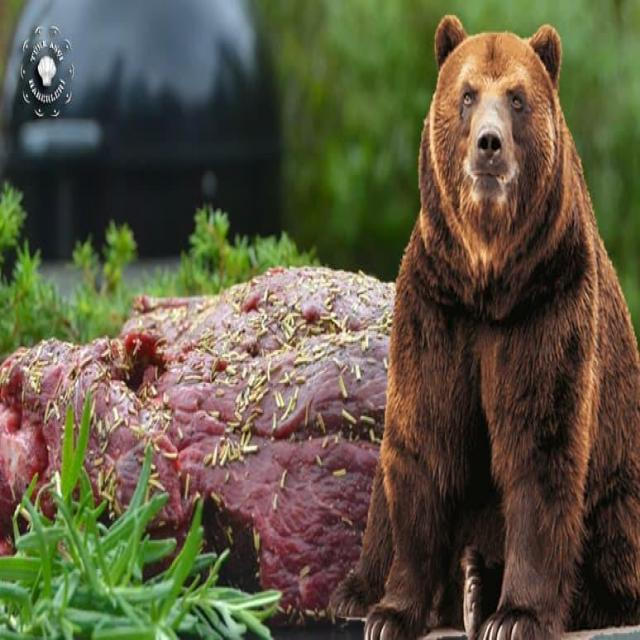Bear: (347, 15, 640, 640)
